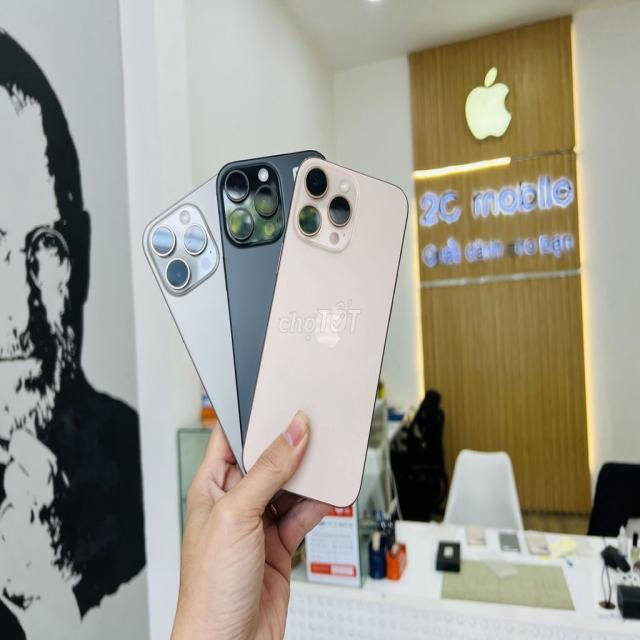gen_16: (238, 154, 409, 515)
